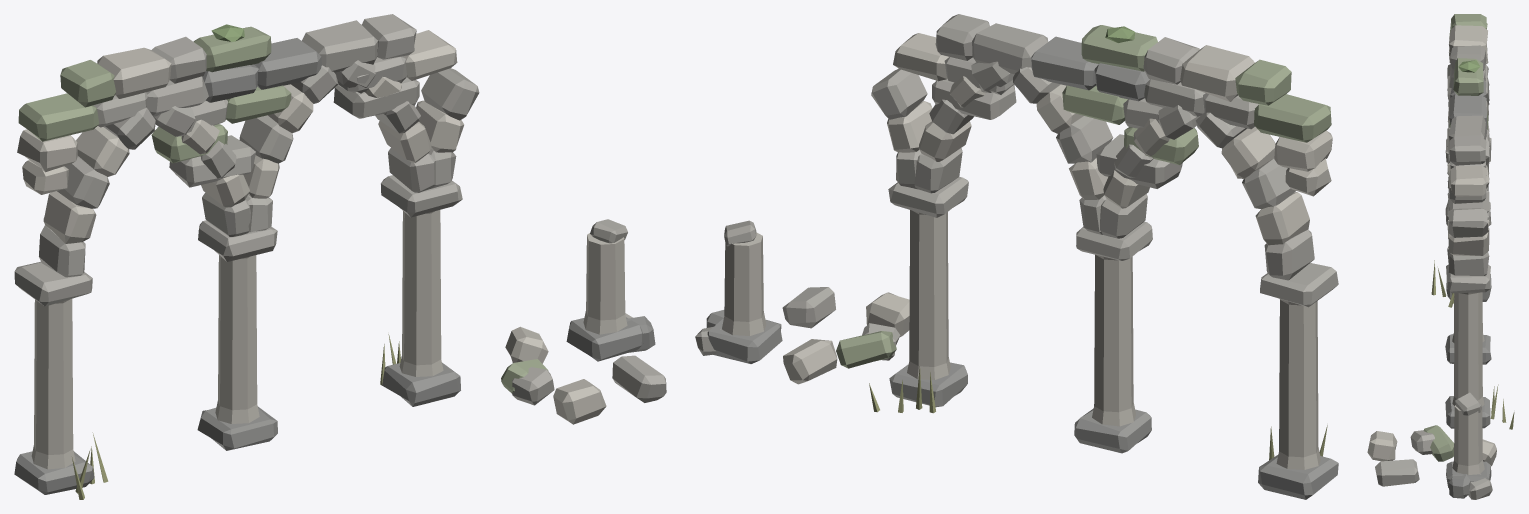
Rendered from Ruin_Arcade.fbx.
The picture shows the model from 3 angles, left to right: view 1: azimuth 30°, elevation 25°; view 2: azimuth 150°, elevation 25°; view 3: azimuth 270°, elevation 25°; orthographic projection. The views are drawn at different scales.
Parts seen in each view (by area): view 1: Ruin_Arcade; view 2: Ruin_Arcade; view 3: Ruin_Arcade.
Part boxes in pixels (<box>): Ruin_Arcade: <box>14,14,666,499</box>; Ruin_Arcade: <box>695,14,1338,499</box>; Ruin_Arcade: <box>1367,14,1514,499</box>.
Bounding box in the file's own units: 7.76 × 5.04 × 2.24.
